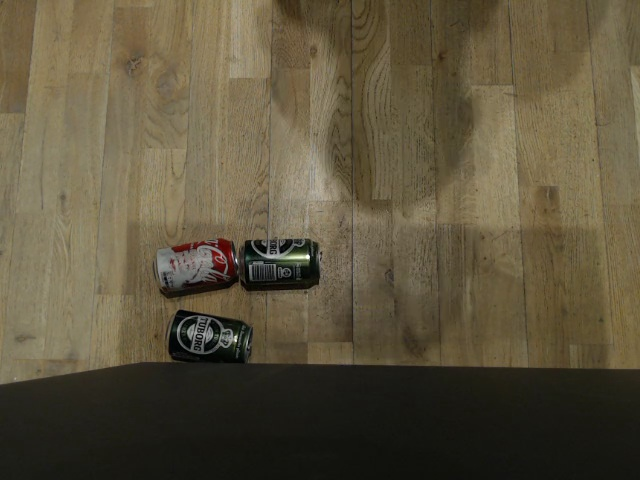beer: (239, 231, 327, 293), (160, 310, 255, 364)
cola: (134, 233, 226, 295)
